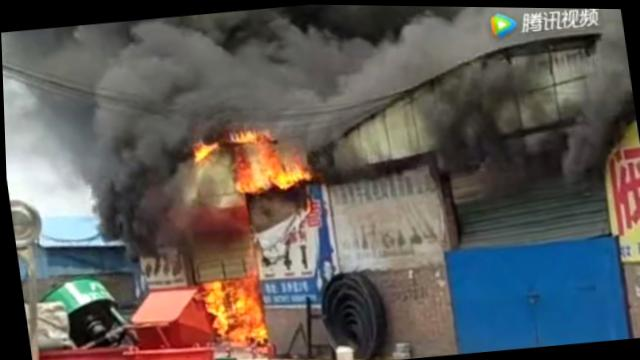fire: (200, 276, 264, 347), (234, 138, 280, 188), (274, 164, 308, 188), (191, 140, 218, 160), (233, 129, 258, 143)
